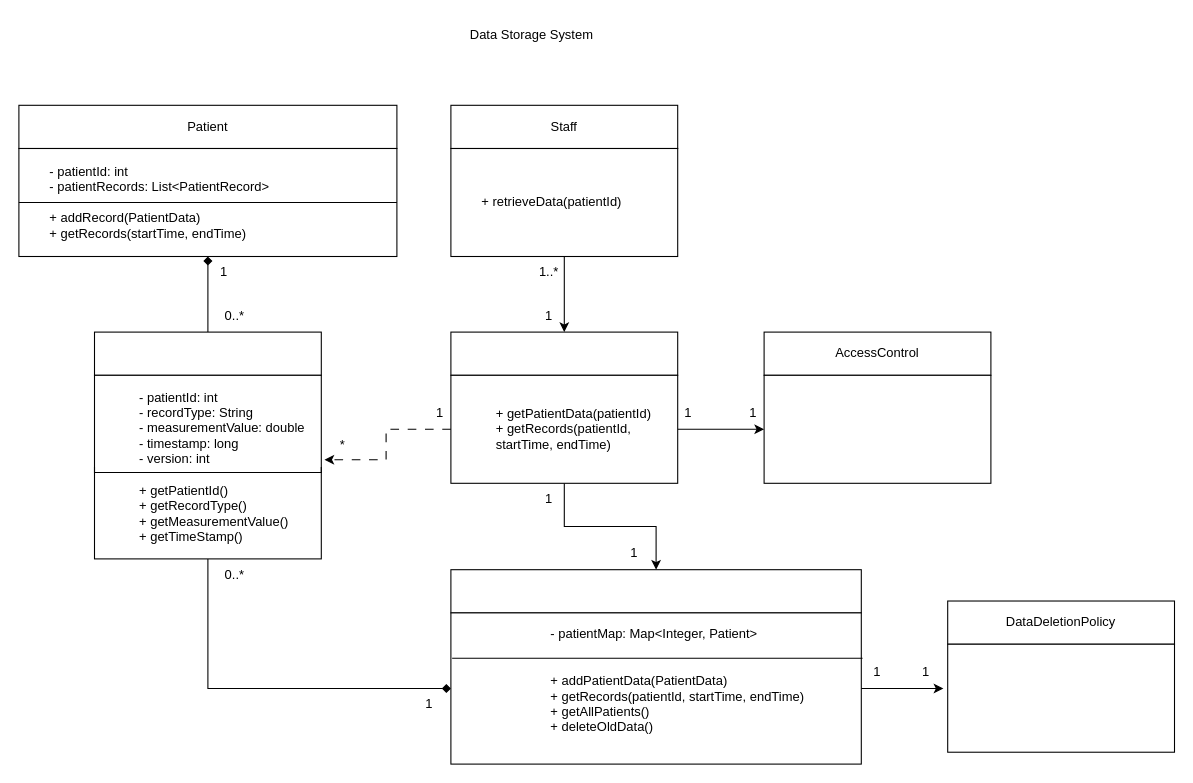
The diagram is 1193 pixels wide and 783 high, and some of its shapes have lost their labels. The box of each missing label's shape, as (x1, y1, x2, y2) in pixels:
+ canAccess(user, patientId): boolean: (763, 374, 991, 483)
+shouldDelete(patientData): boolean: (947, 643, 1174, 752)
<<Interface>> DataStorage: (450, 569, 861, 613)
DataRetriever: (450, 331, 678, 375)
PatientData: (93, 331, 321, 375)
